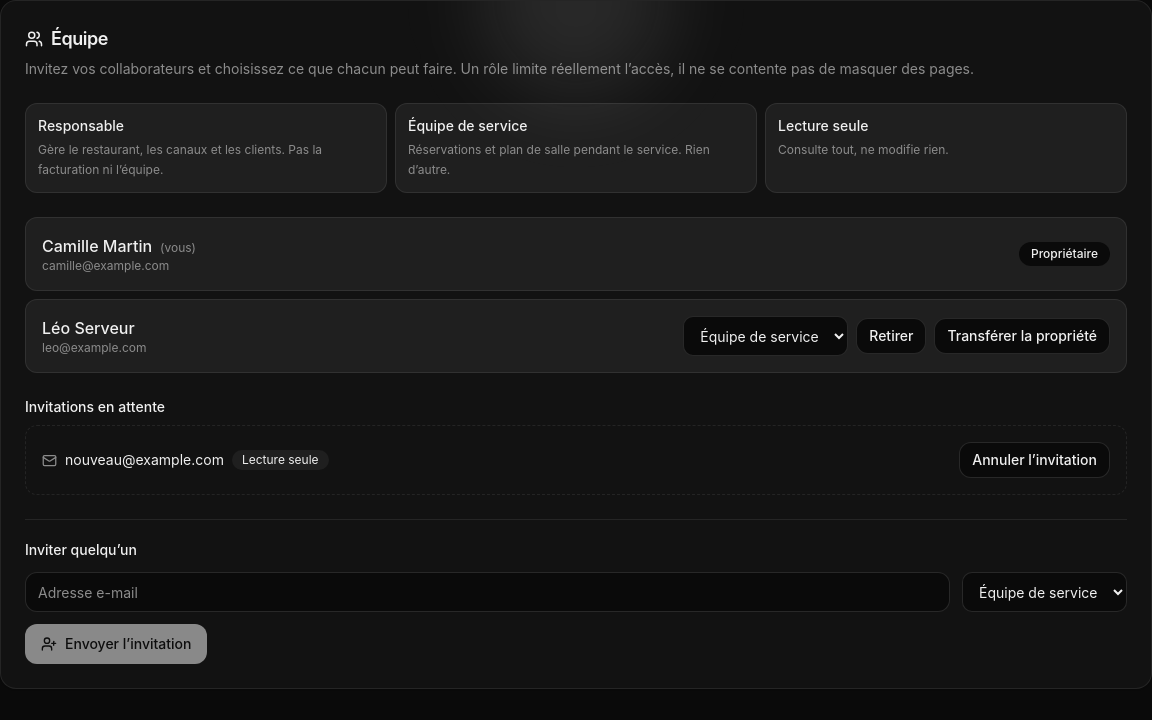
affiche le refus du serveur sans effacer l’adresse saisie
The width and height of the screenshot is (1152, 720).
Expected: the text "Léo Serveur" is shown, left=42, top=316, right=146, bottom=340
Type "marie@example.com" into the field named "Adresse e-mail à inviter" at {"x": 488, "y": 592}, box left=25, top=572, right=950, bottom=612
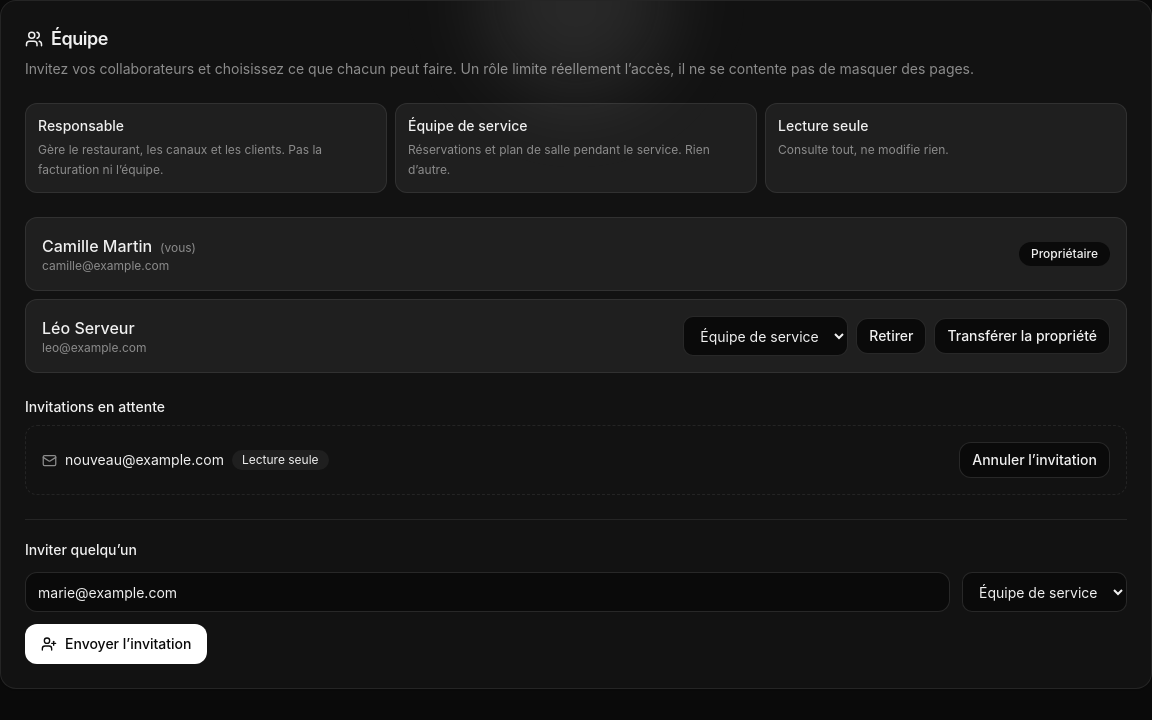
Click the button "Envoyer l’invitation" at {"x": 116, "y": 644}, box left=25, top=624, right=207, bottom=664
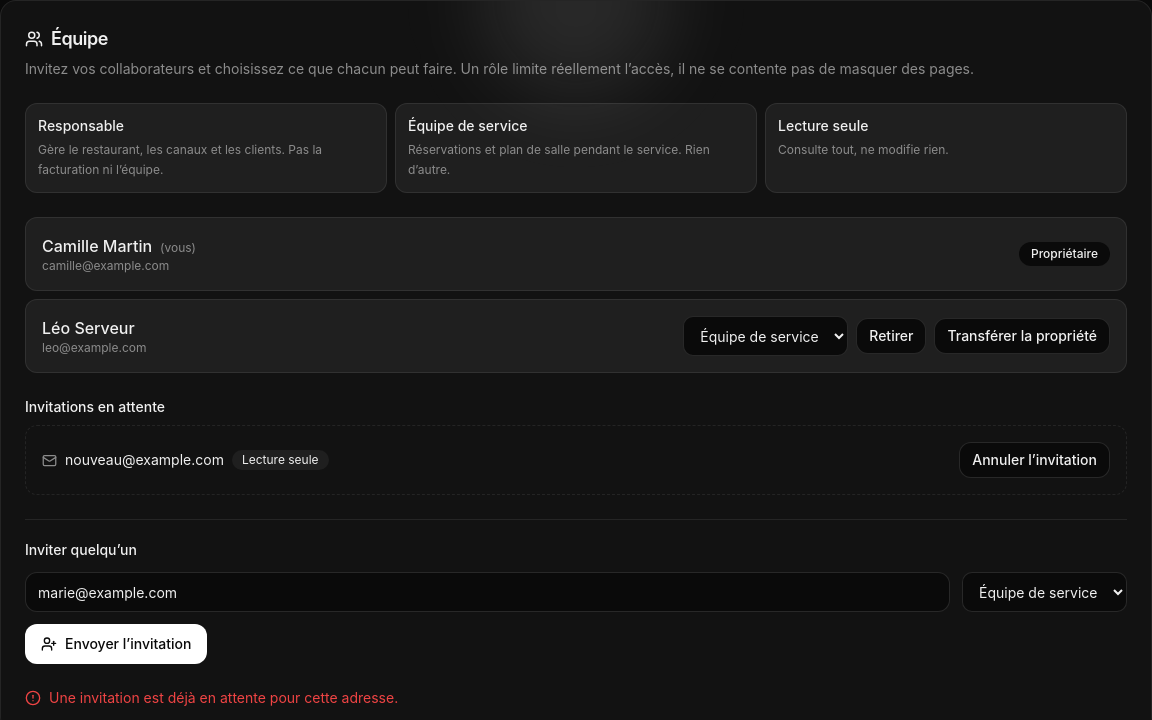
Expected: the message shows "déjà en attente", left=49, top=689, right=398, bottom=706
